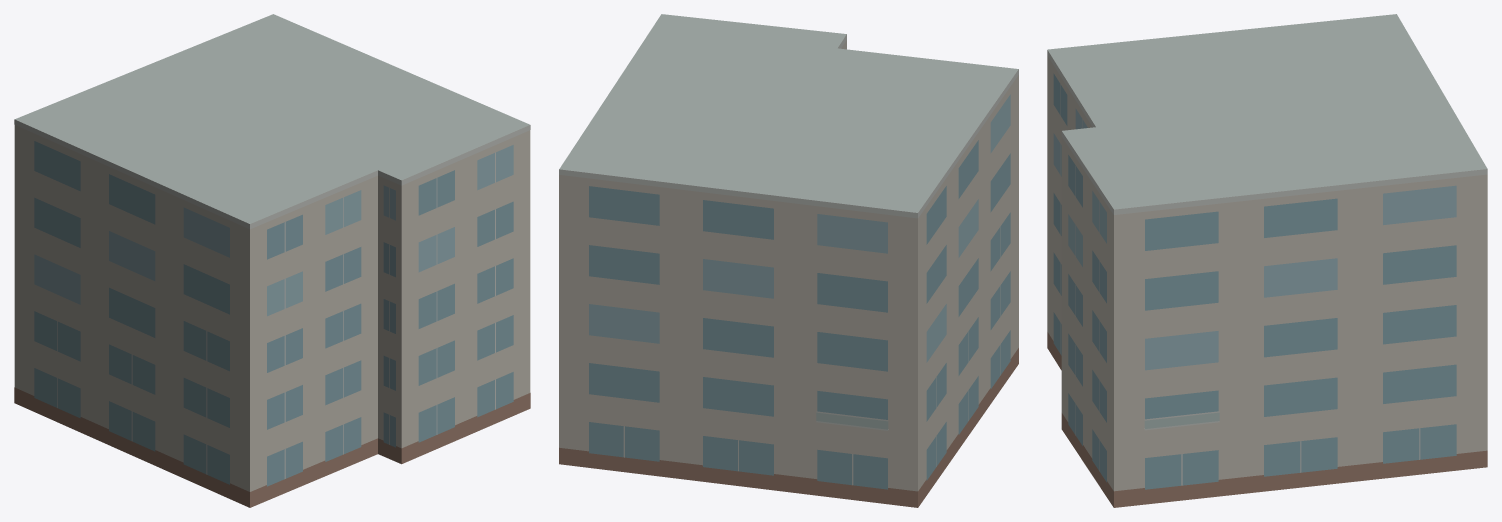
Rendered from survey-upis-33022544.glb.
3 renders of one model, left to right at view 1: azimuth 30°, elevation 25°; view 2: azimuth 150°, elevation 25°; view 3: azimuth 270°, elevation 25°, orthographic. The views are drawn at different scales.
Visible parts, largest first — view 1: survey-upis-33022544.tmp; view 2: survey-upis-33022544.tmp; view 3: survey-upis-33022544.tmp.
Part boxes in pixels (<box>): survey-upis-33022544.tmp: <box>14,14,530,507</box>; survey-upis-33022544.tmp: <box>559,14,1018,507</box>; survey-upis-33022544.tmp: <box>1047,14,1487,507</box>.
Size of the model in its own units: 18.63 by 13.24 by 17.73.
